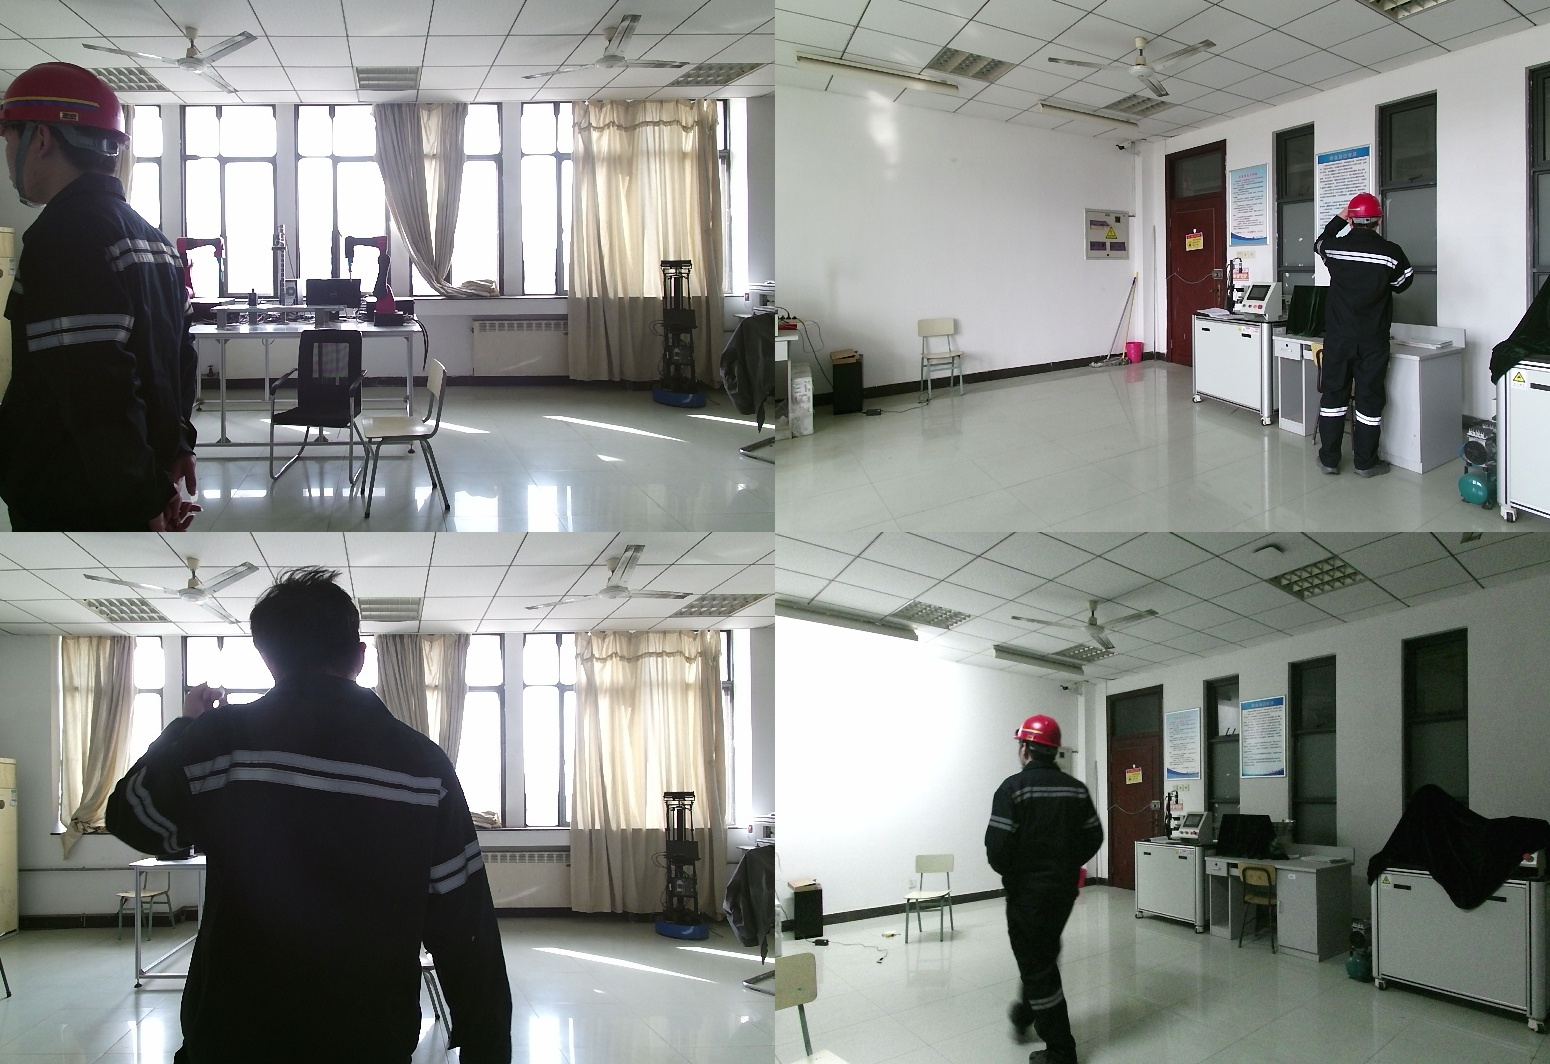person: (112, 573, 511, 1064), (1, 62, 201, 531), (985, 713, 1128, 1064), (1315, 192, 1440, 479)
